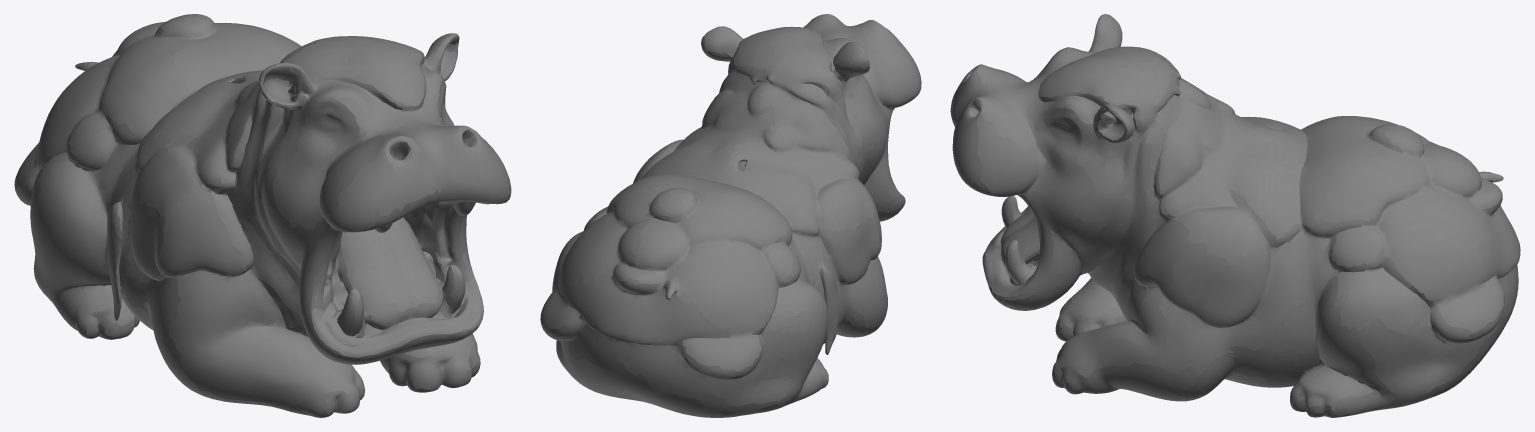
Rendered from completion_tapir_2.glb.
3 renders of one model, left to right at view 1: azimuth 30°, elevation 25°; view 2: azimuth 150°, elevation 25°; view 3: azimuth 270°, elevation 25°, orthographic. The views are drawn at different scales.
Parts seen in each view (by area): view 1: geometry_0; view 2: geometry_0; view 3: geometry_0.
Boxes of the visible parts, <box> form: geometry_0: <box>14,14,511,417</box>; geometry_0: <box>540,14,921,417</box>; geometry_0: <box>950,14,1520,417</box>.
Bounding box in the file's own units: 0.6038 × 0.5996 × 1.
1 material, 1 textured.
